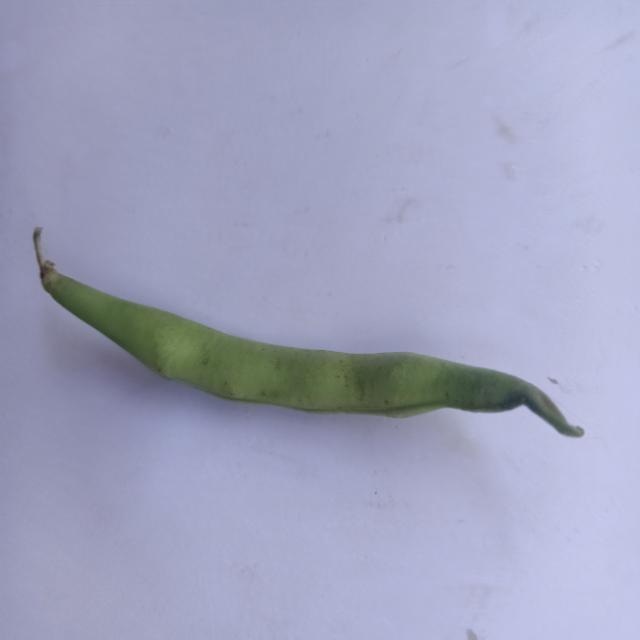Beans: (18, 203, 599, 487)
